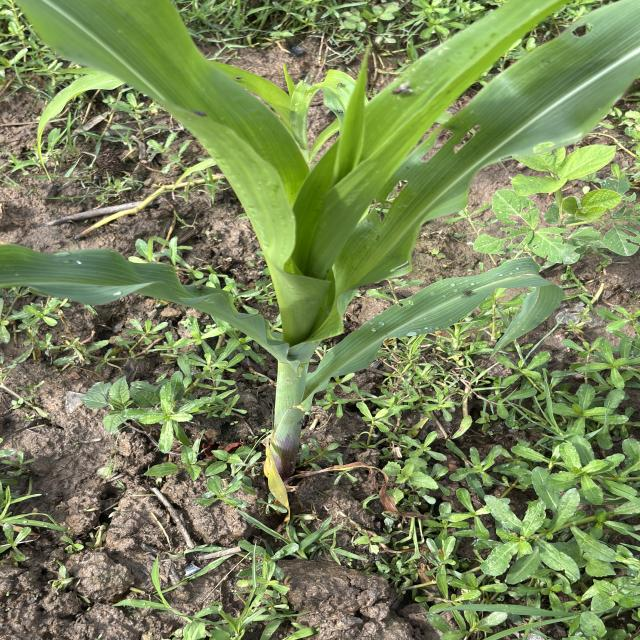maize: (85, 0, 520, 488)
weed: (359, 350, 640, 640), (0, 300, 266, 498), (1, 105, 226, 254), (138, 511, 358, 640), (468, 147, 640, 270), (0, 434, 92, 579), (180, 0, 479, 41), (0, 7, 109, 95)
